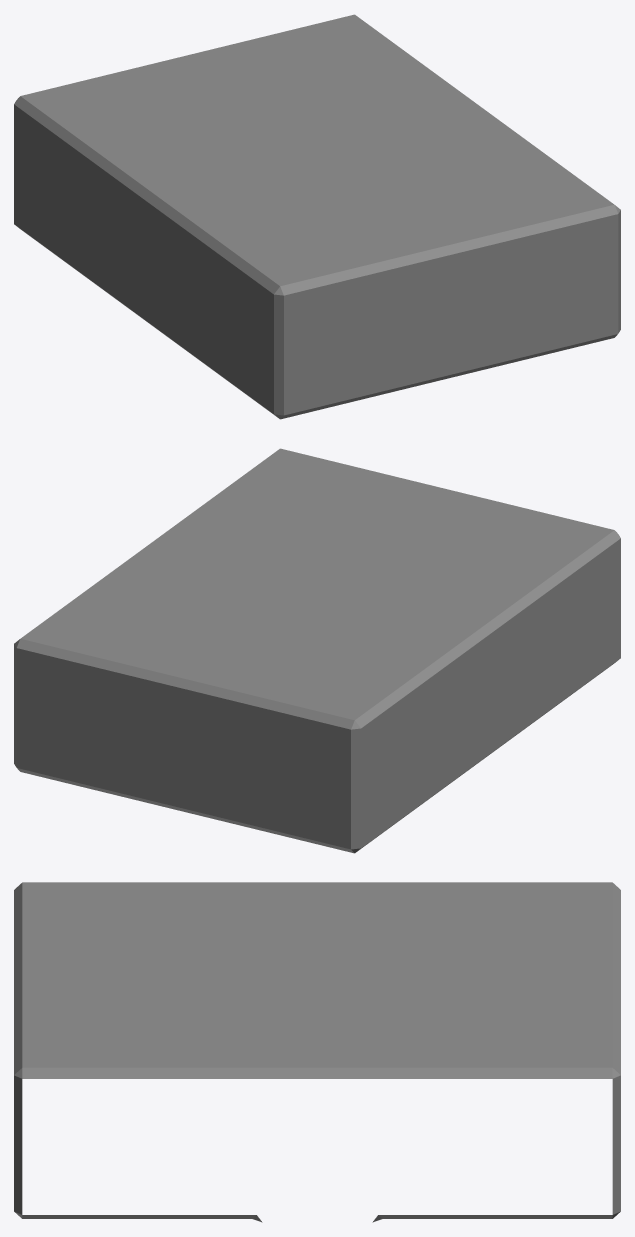
File: Stowaway_Walls.fbx
3 views of the same model, one above another, from view 1: azimuth 30°, elevation 25°; view 2: azimuth 150°, elevation 25°; view 3: azimuth 270°, elevation 25° (orthographic). The views are drawn at different scales.
Parts seen in each view (by area): view 1: Stowaway_Walls; view 2: Stowaway_Walls; view 3: Stowaway_Walls.
Part boxes in pixels (x1=…): Stowaway_Walls: x1=14, y1=14, x2=620, y2=419; Stowaway_Walls: x1=14, y1=448, x2=620, y2=853; Stowaway_Walls: x1=14, y1=882, x2=620, y2=1222.
Size of the model in its own units: 30 by 11 by 40.
